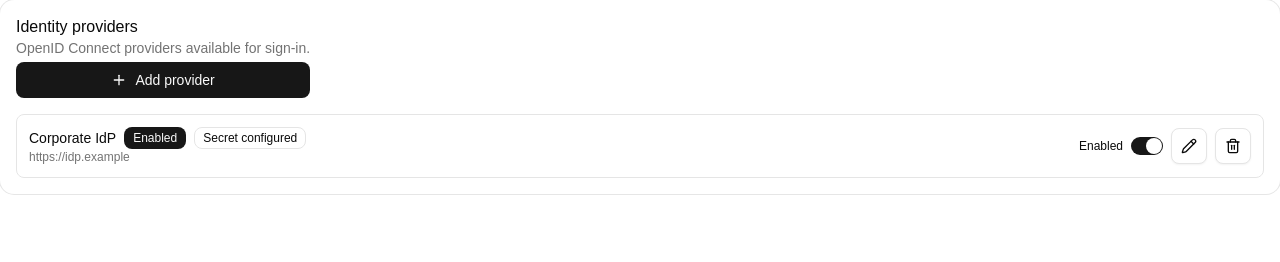
Test: OIDC providers panel › shows a non-reauth error on toggle
Click the switch: (1147, 146) [1131,137,1163,155]
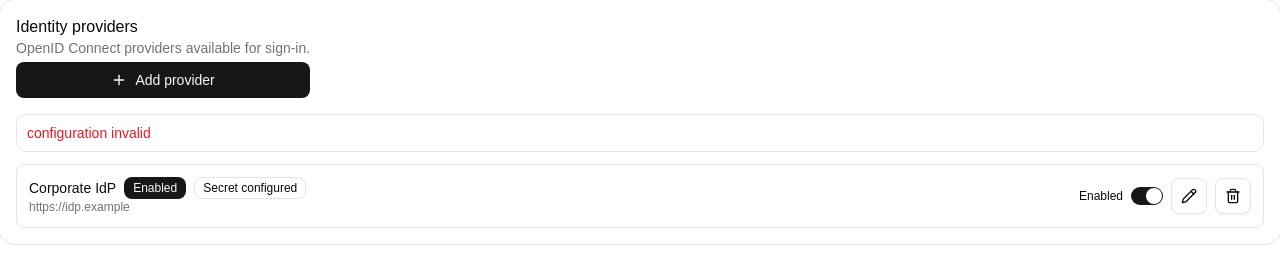
Expected: the text "configuration invalid" is shown, [27,125,151,141]
